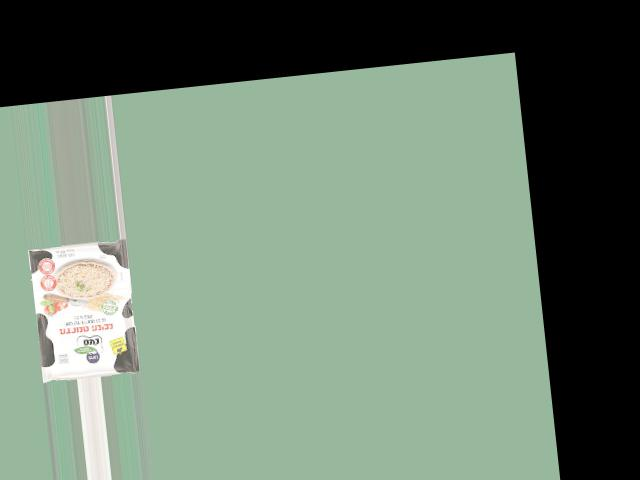cheese: (12, 244, 141, 374)
